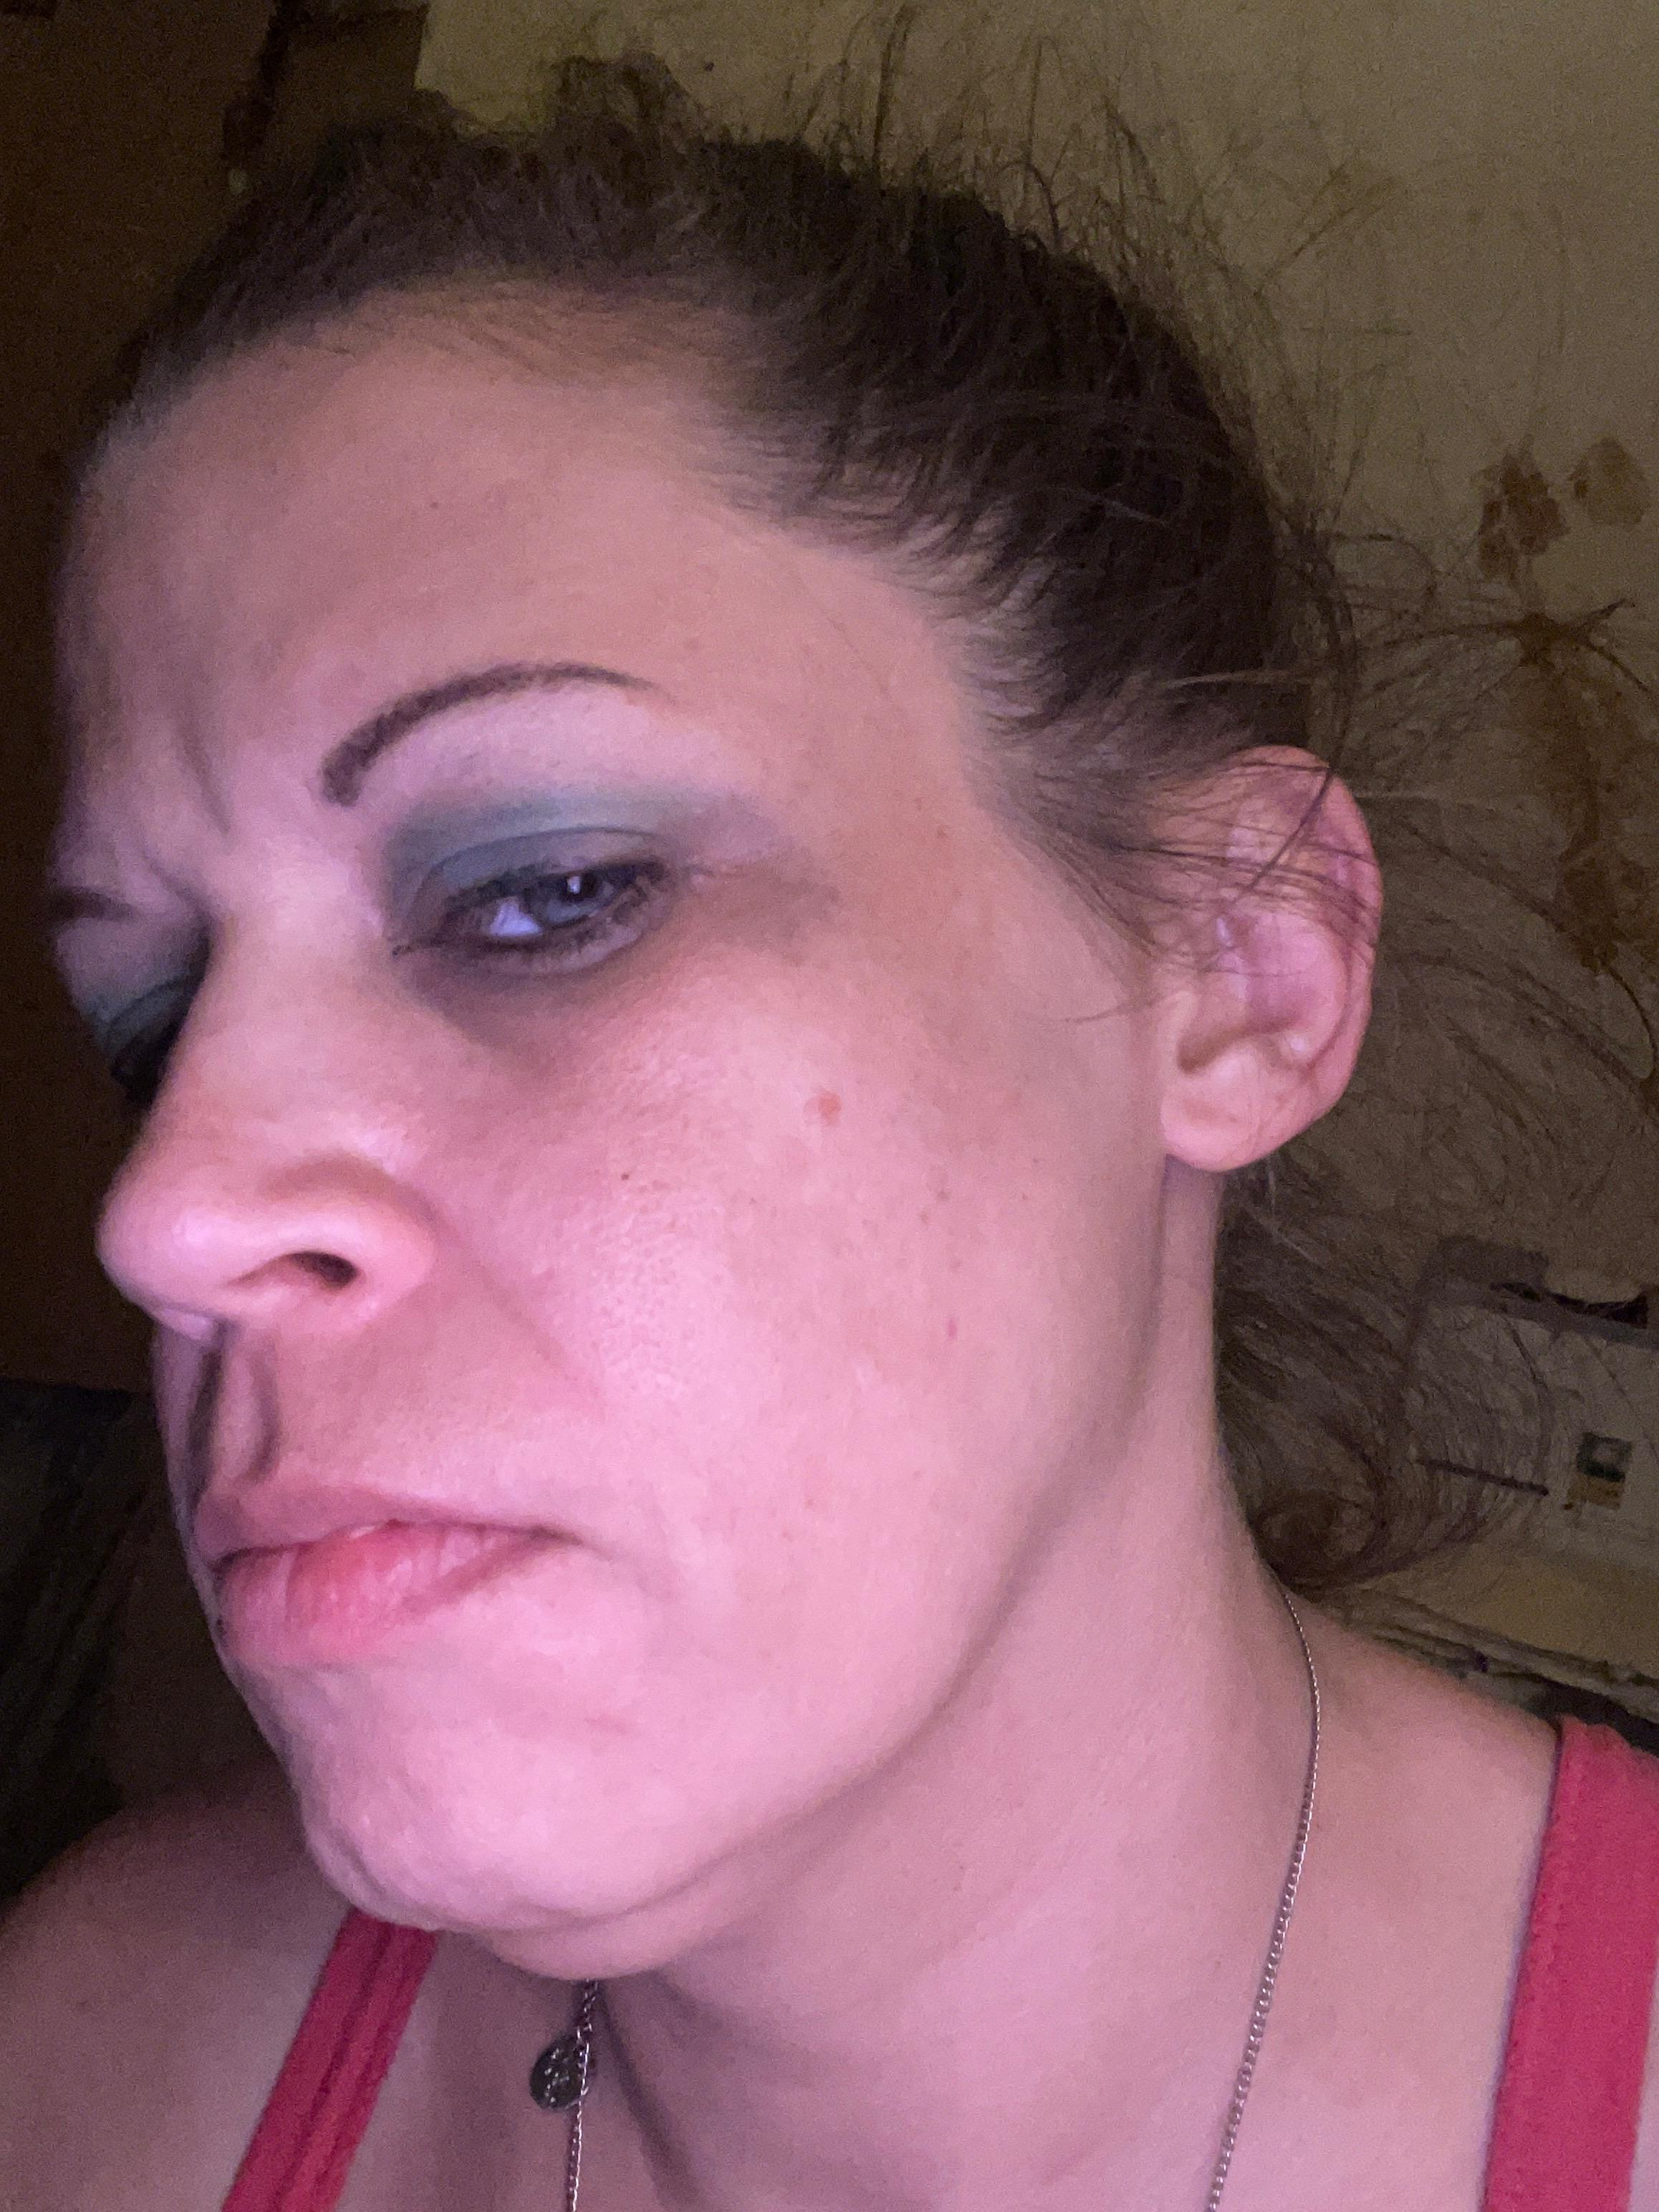Acne: (552, 1705, 653, 1749), (803, 1076, 861, 1132), (934, 1299, 974, 1352)
Englarged-Pores: (469, 1162, 727, 1348)
Eyebags: (410, 885, 767, 1078)
Wrinkles: (427, 1211, 606, 1444), (631, 1465, 678, 1683), (173, 686, 218, 834)
